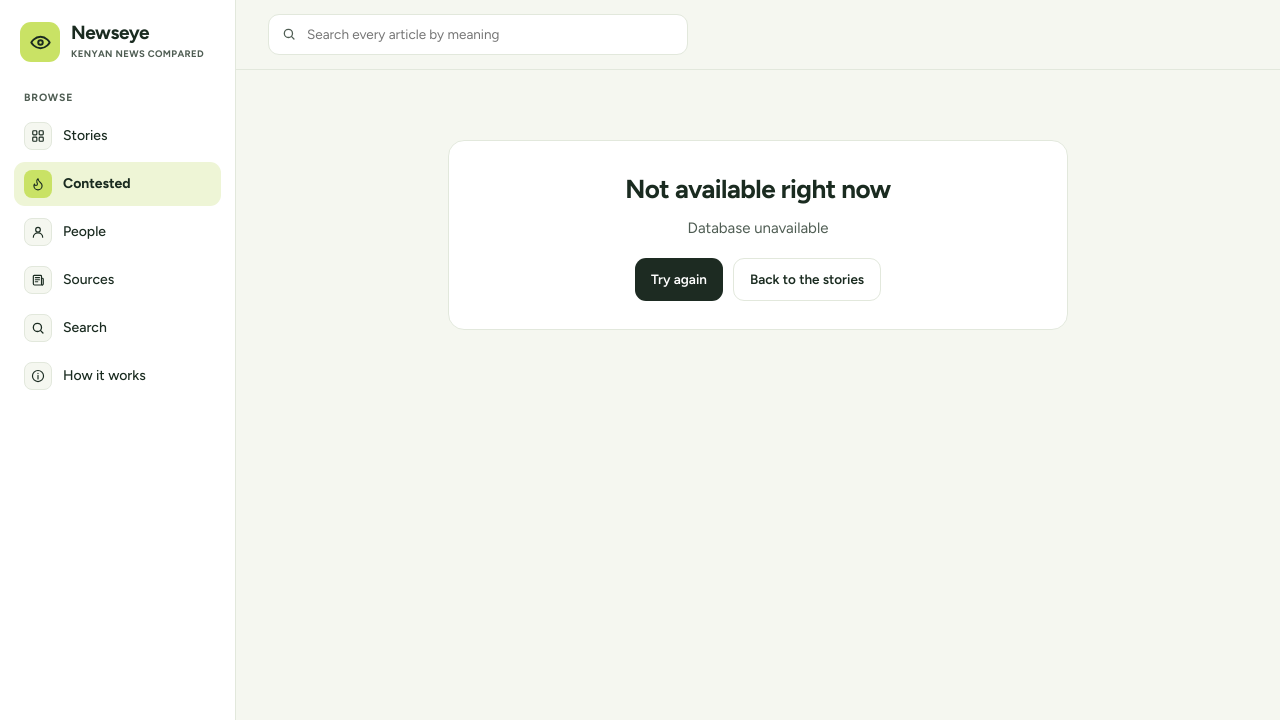
Test: the frame around every page › the database being down is said plainly, with a way to try again
expect the heading "Not available right now" is shown: met, box [625, 173, 891, 205]
Click the button "Try again" at coordinates (679, 280), box [635, 258, 723, 301]
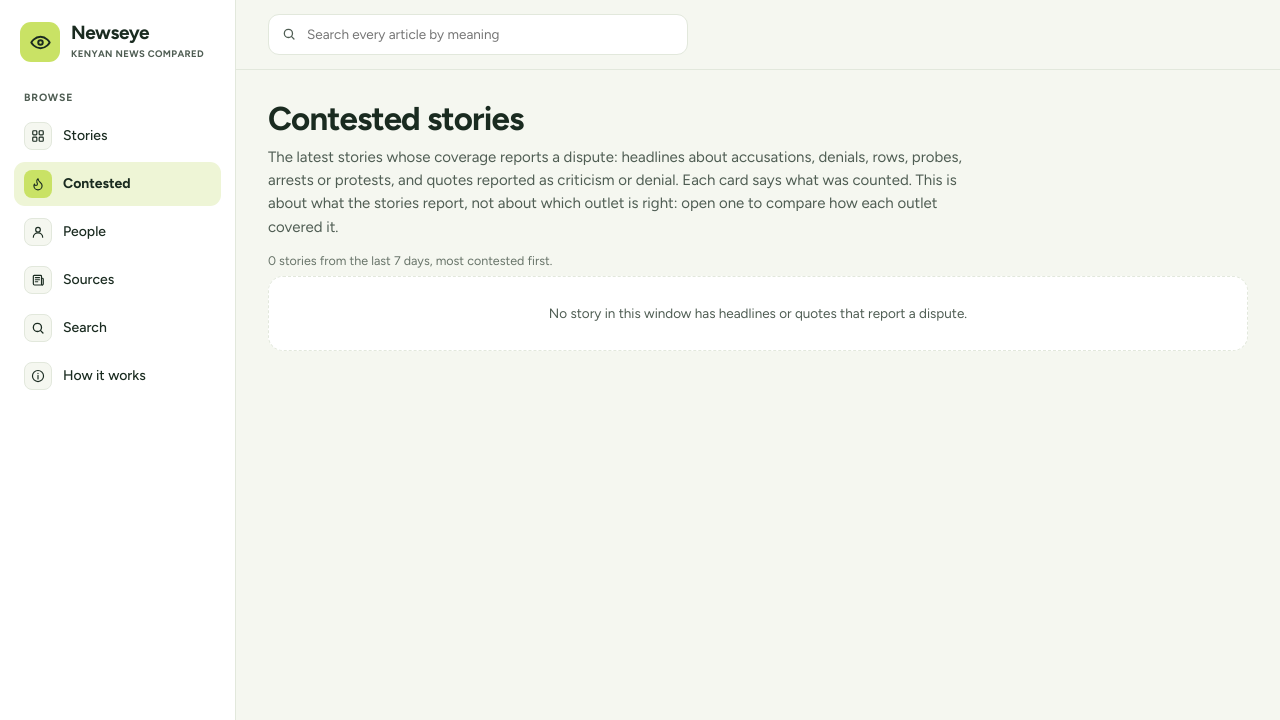
expect the text "No story in this window has headlines or quotes that report a dispute." is shown: met, box [268, 276, 1248, 351]
